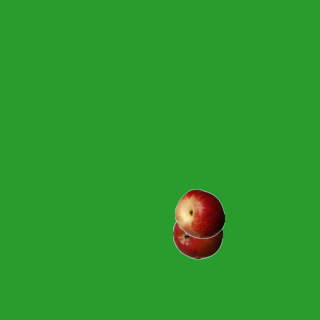Apple Braeburn: (172, 209, 222, 259)
Nectarine: (174, 188, 224, 238)
